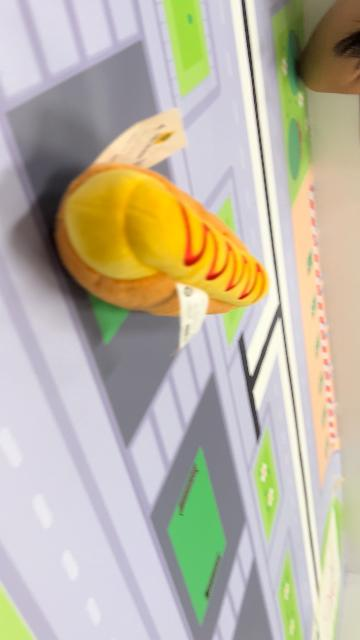hotdog: (55, 162, 271, 318)
